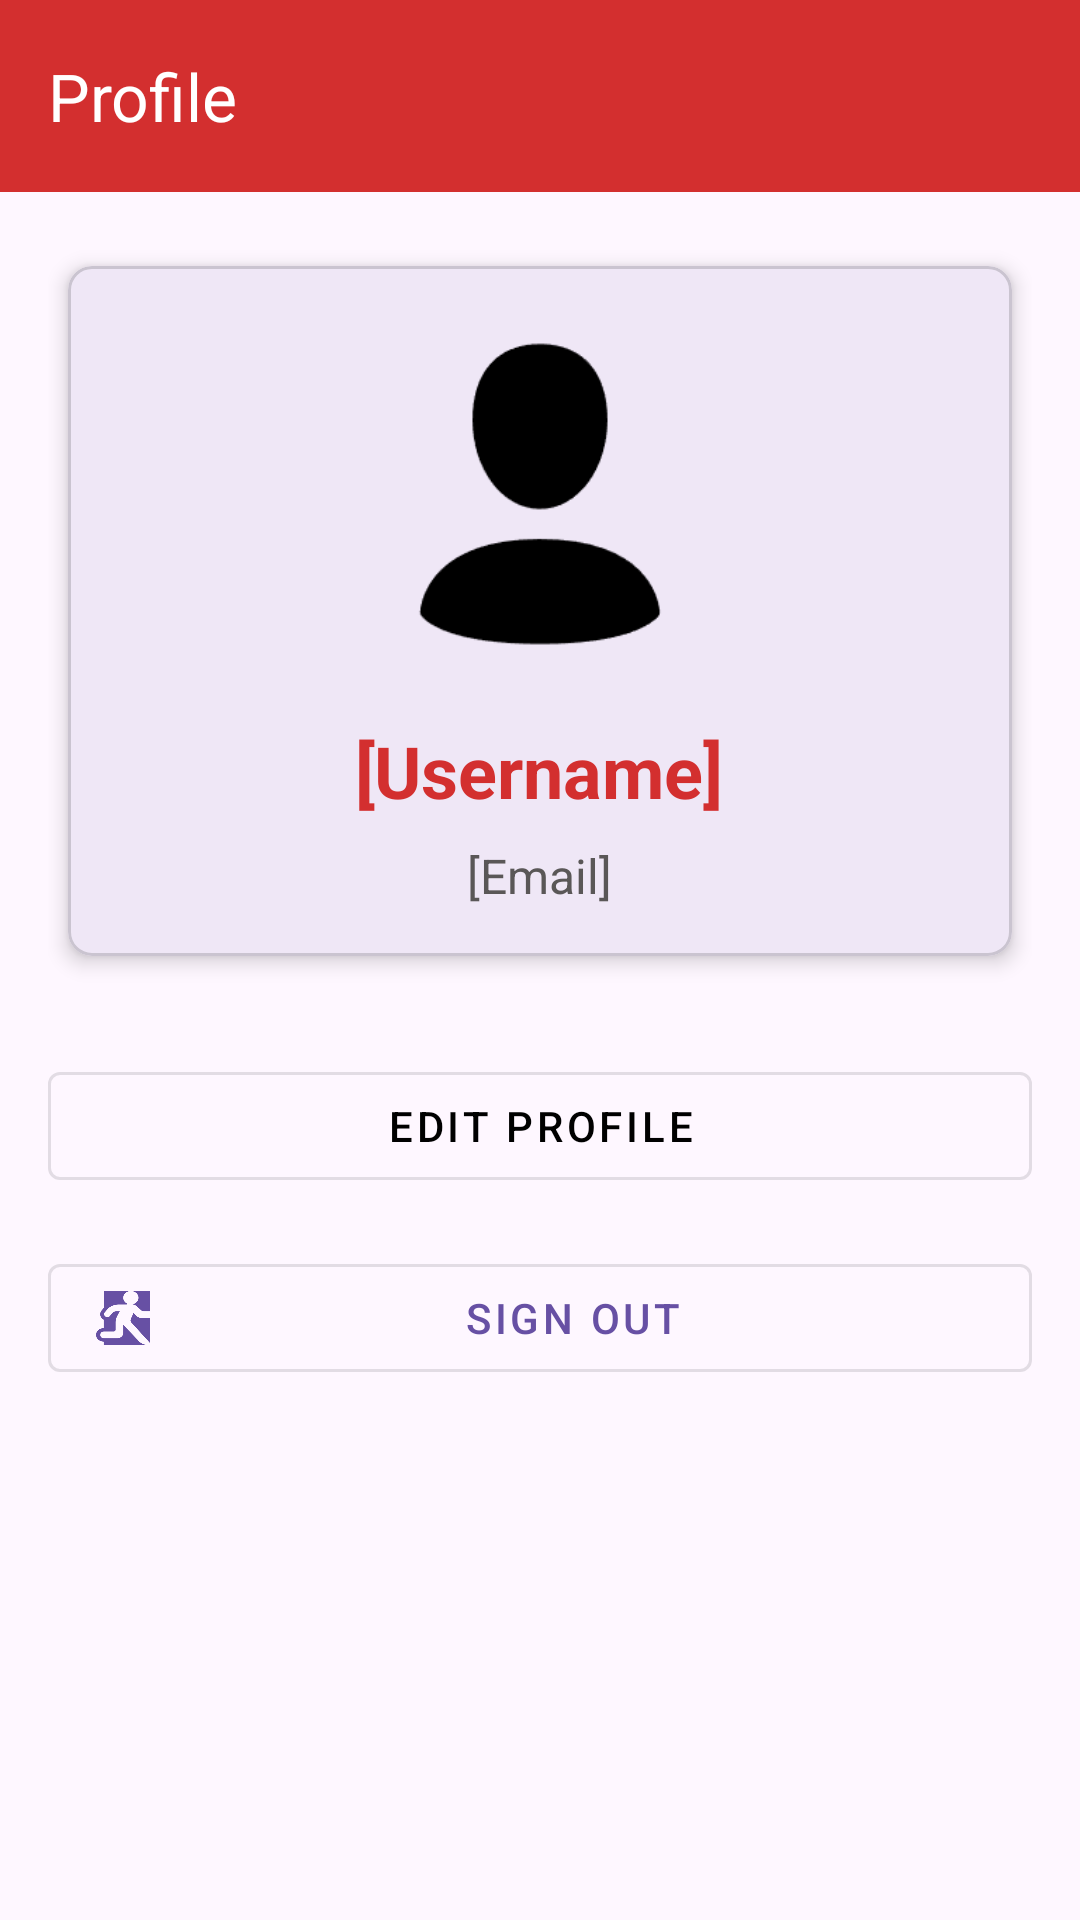

Screen size 1080px×1920px. Icon name, then its center in pixels as [x,y]:
Profile Picture: [540,494]
